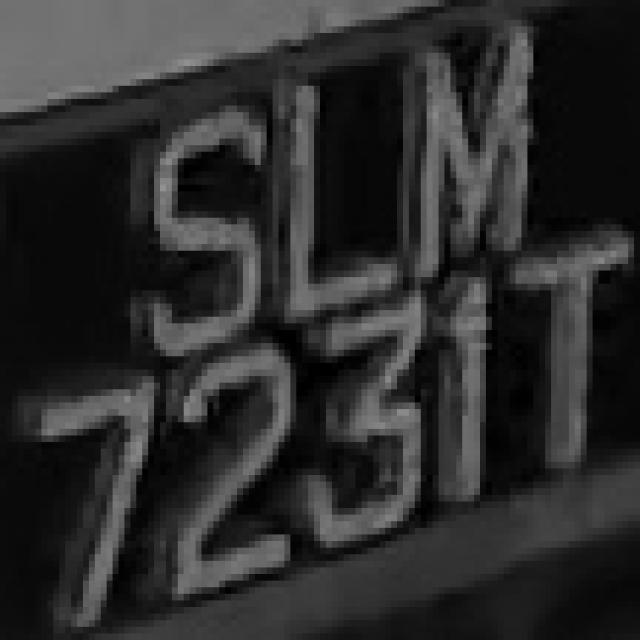1: (432, 244, 503, 528)
2: (154, 330, 302, 587)
3: (284, 284, 432, 541)
7: (6, 363, 148, 640)
L: (266, 53, 414, 330)
M: (397, 40, 539, 244)
S: (124, 93, 261, 370)
T: (480, 204, 640, 502)
